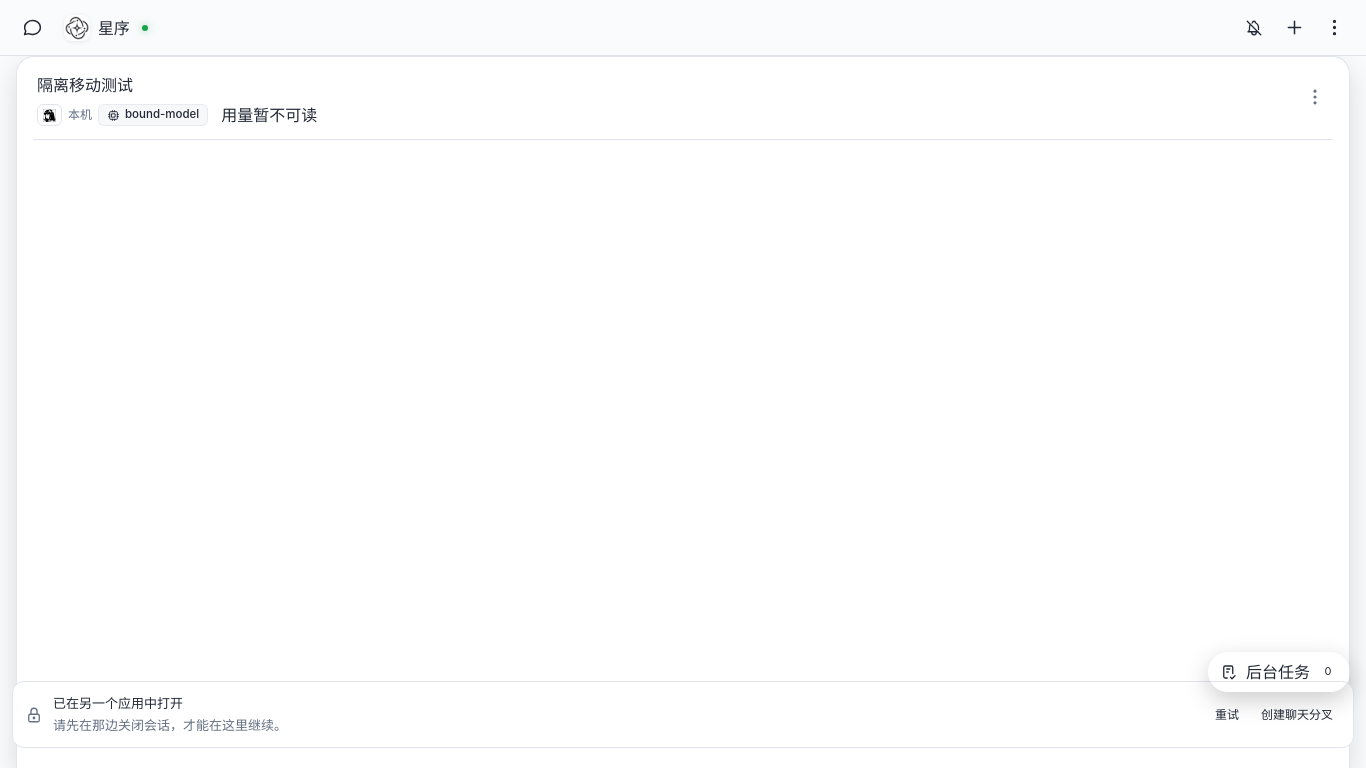
independent mobile composer › locks an externally owned session and preserves its queue until native retry unlocks it
The width and height of the screenshot is (1366, 768).
Check: the text "已在另一个应用中打开" is shown, box [53,695,183,711]
Click the button named "会话操作" at (1315, 97), box [1295,77,1335,117]
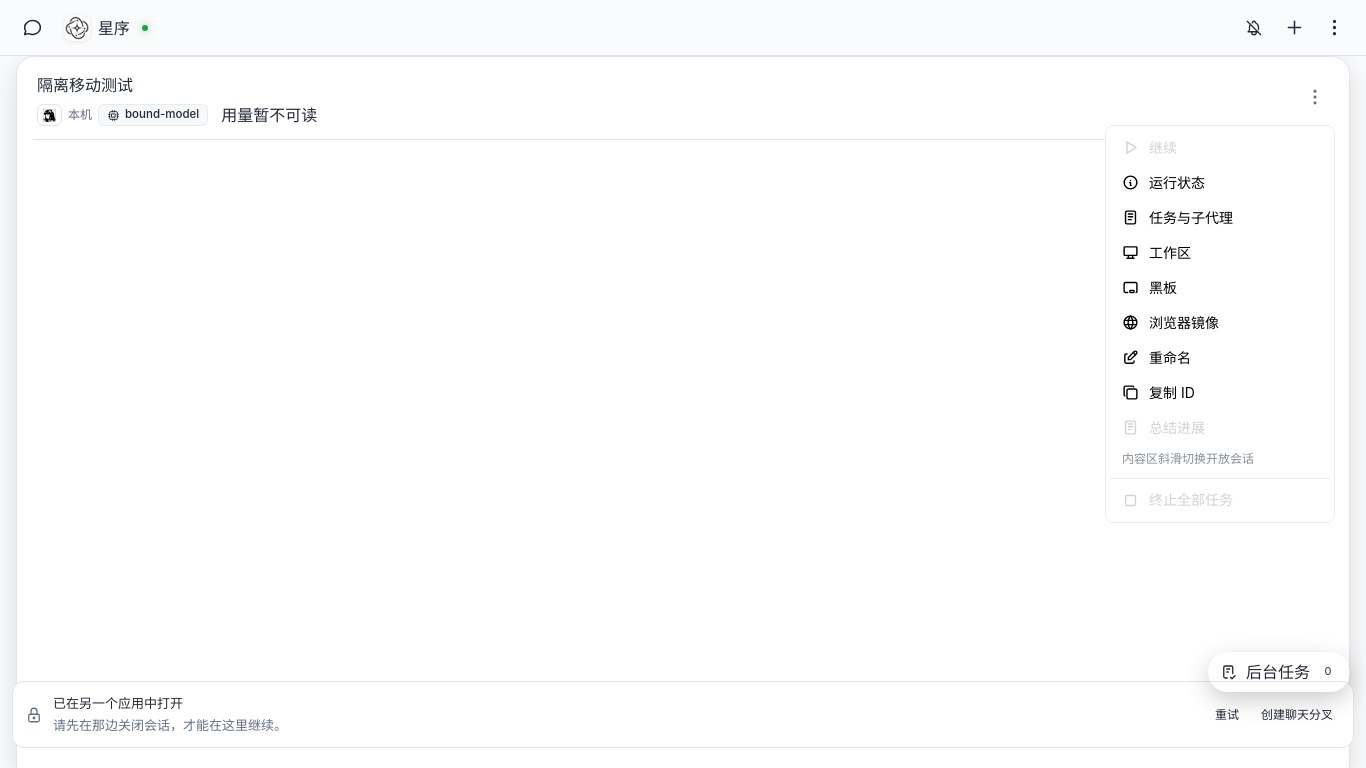
Press Escape
Click the button "重试" at (1227, 714), box [1207,702,1247,728]
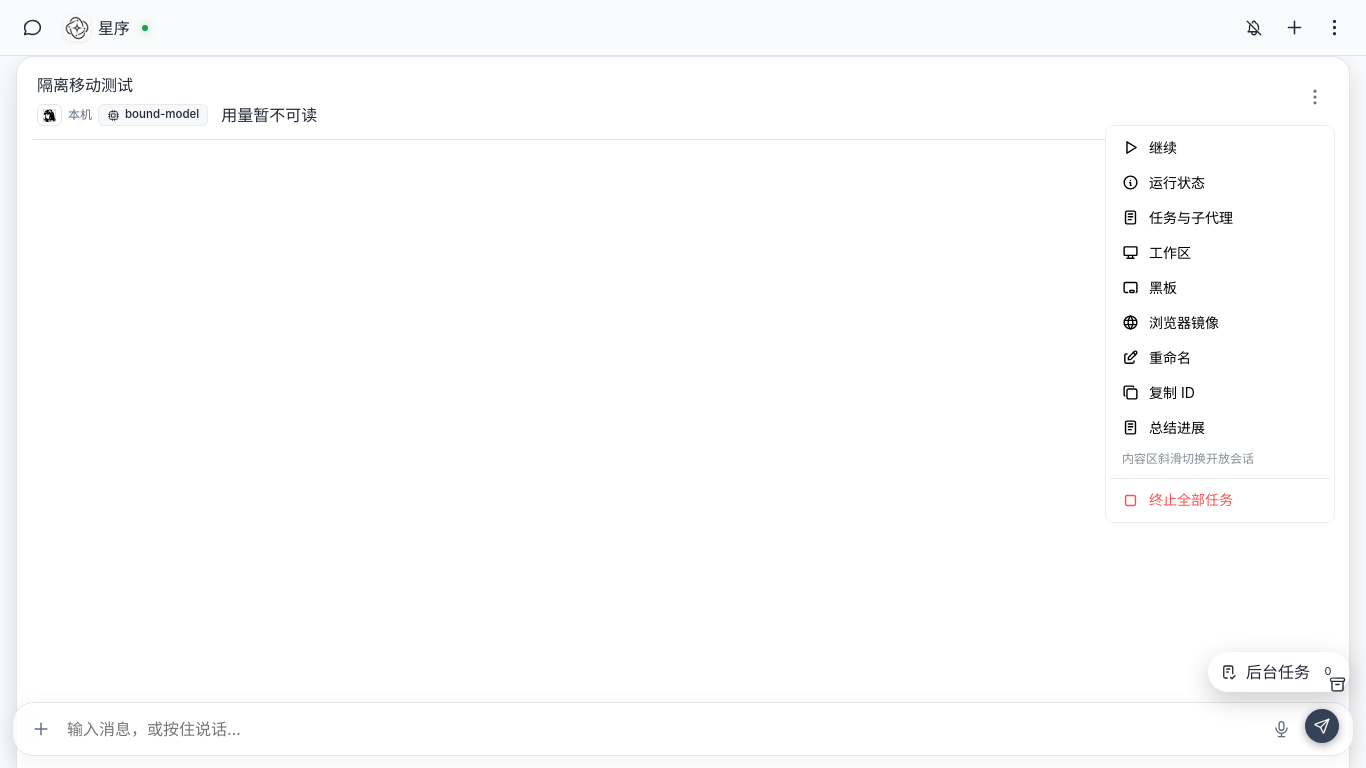
Check: the text box named "消息内容" is enabled, box [65,712,1257,746]
